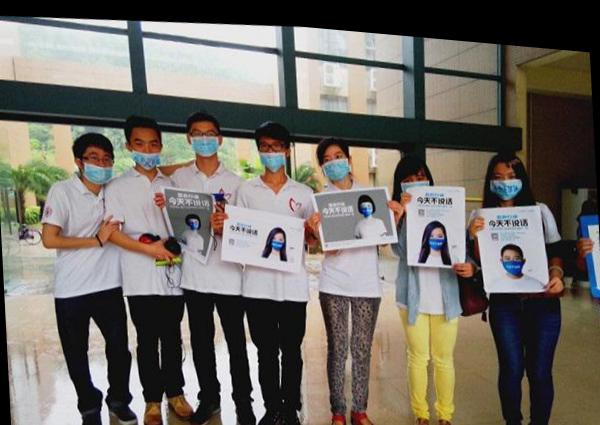OK: (399, 161, 434, 198), (319, 140, 352, 179), (493, 156, 524, 193), (190, 119, 220, 156), (505, 243, 525, 265), (427, 222, 445, 244), (272, 230, 286, 245), (361, 195, 374, 211)
WRONG: (77, 143, 116, 185), (130, 124, 162, 169), (257, 131, 289, 170)
